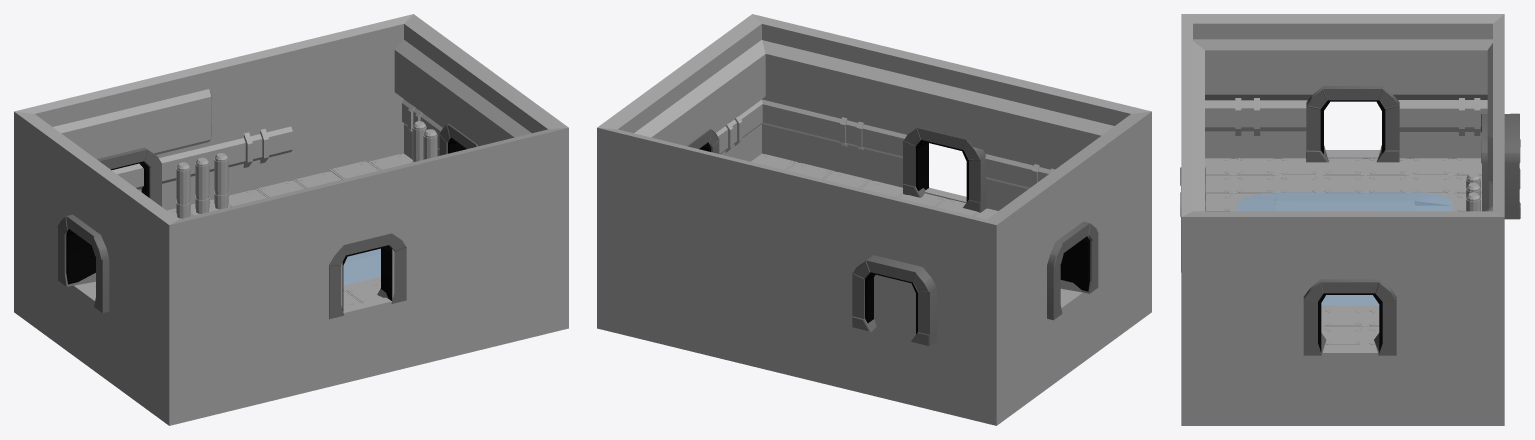
The model's file is HUB - Walls and Floor.fbx.
3 renders of one model, left to right at view 1: azimuth 30°, elevation 25°; view 2: azimuth 150°, elevation 25°; view 3: azimuth 270°, elevation 25°, orthographic. The views are drawn at different scales.
Parts seen in each view (by area): view 1: pCube484, pCylinder169, pCylinder223, pCube866, pCylinder170, pCube859, pCube868, pCube209, pCylinder213, pCylinder214, pCylinder212, pCube855 (+1 smaller); view 2: pCube484, pCylinder181, pCylinder223, pCube868, pCube859, pCube866, pCylinder177, pCylinder176, pCylinder172; view 3: pCube484, pCylinder178, pCube209, pCube855, pCube866, pCylinder173, pCube868, pCylinder175, pCylinder181, pCylinder169, polySurface56, polySurface110 (+14 smaller).
Boxes of the visible parts, bbox=[...] form: pCube484: bbox=[14, 14, 568, 425]; pCylinder169: bbox=[53, 89, 212, 159]; pCylinder223: bbox=[394, 40, 531, 146]; pCube866: bbox=[57, 214, 109, 312]; pCylinder170: bbox=[112, 126, 292, 189]; pCube859: bbox=[329, 233, 406, 319]; pCube868: bbox=[97, 147, 161, 206]; pCube209: bbox=[343, 248, 380, 285]; pCylinder213: bbox=[176, 162, 190, 218]; pCylinder214: bbox=[214, 153, 228, 209]; pCylinder212: bbox=[195, 157, 209, 213]; pCube855: bbox=[439, 123, 477, 155]; pCube484: bbox=[597, 14, 1151, 425]; pCylinder181: bbox=[762, 40, 1114, 167]; pCylinder223: bbox=[634, 40, 765, 145]; pCube868: bbox=[852, 255, 936, 346]; pCube859: bbox=[903, 127, 986, 212]; pCube866: bbox=[1047, 221, 1098, 320]; pCylinder177: bbox=[761, 99, 906, 158]; pCylinder176: bbox=[985, 154, 1050, 188]; pCylinder172: bbox=[716, 100, 762, 154]; pCube484: bbox=[1181, 14, 1504, 425]; pCylinder178: bbox=[1193, 39, 1492, 100]; pCube209: bbox=[1237, 192, 1452, 305]; pCube855: bbox=[1303, 279, 1396, 355]; pCube866: bbox=[1306, 86, 1399, 162]; pCylinder173: bbox=[1205, 100, 1307, 131]; pCube868: bbox=[1481, 113, 1520, 219]; pCylinder175: bbox=[1398, 100, 1487, 131]; pCylinder181: bbox=[1193, 41, 1204, 211]; pCylinder169: bbox=[1487, 43, 1492, 185]; polySurface56: bbox=[1322, 309, 1364, 326]; polySurface110: bbox=[1234, 176, 1276, 193].
Size of the model in its own units: 55.59 by 25.79 by 38.08.
